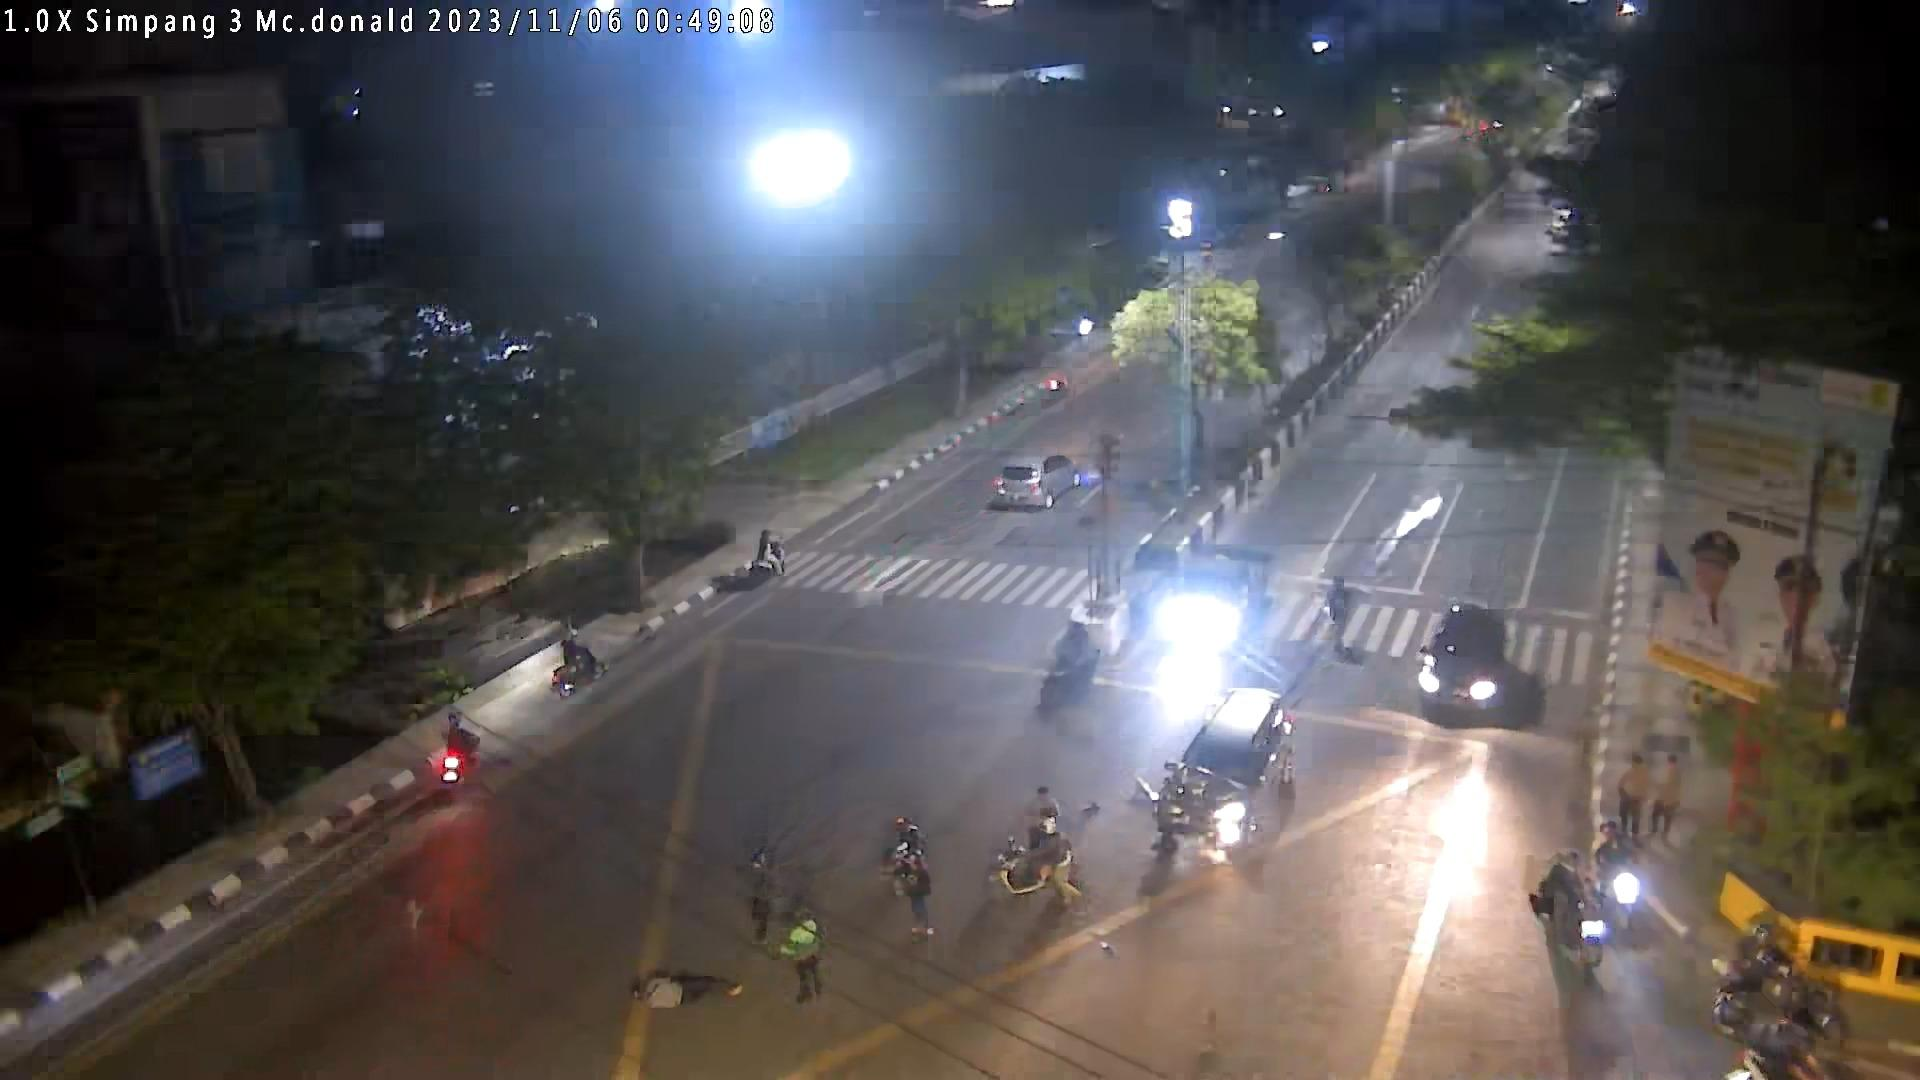accident: (628, 969, 742, 1009)
